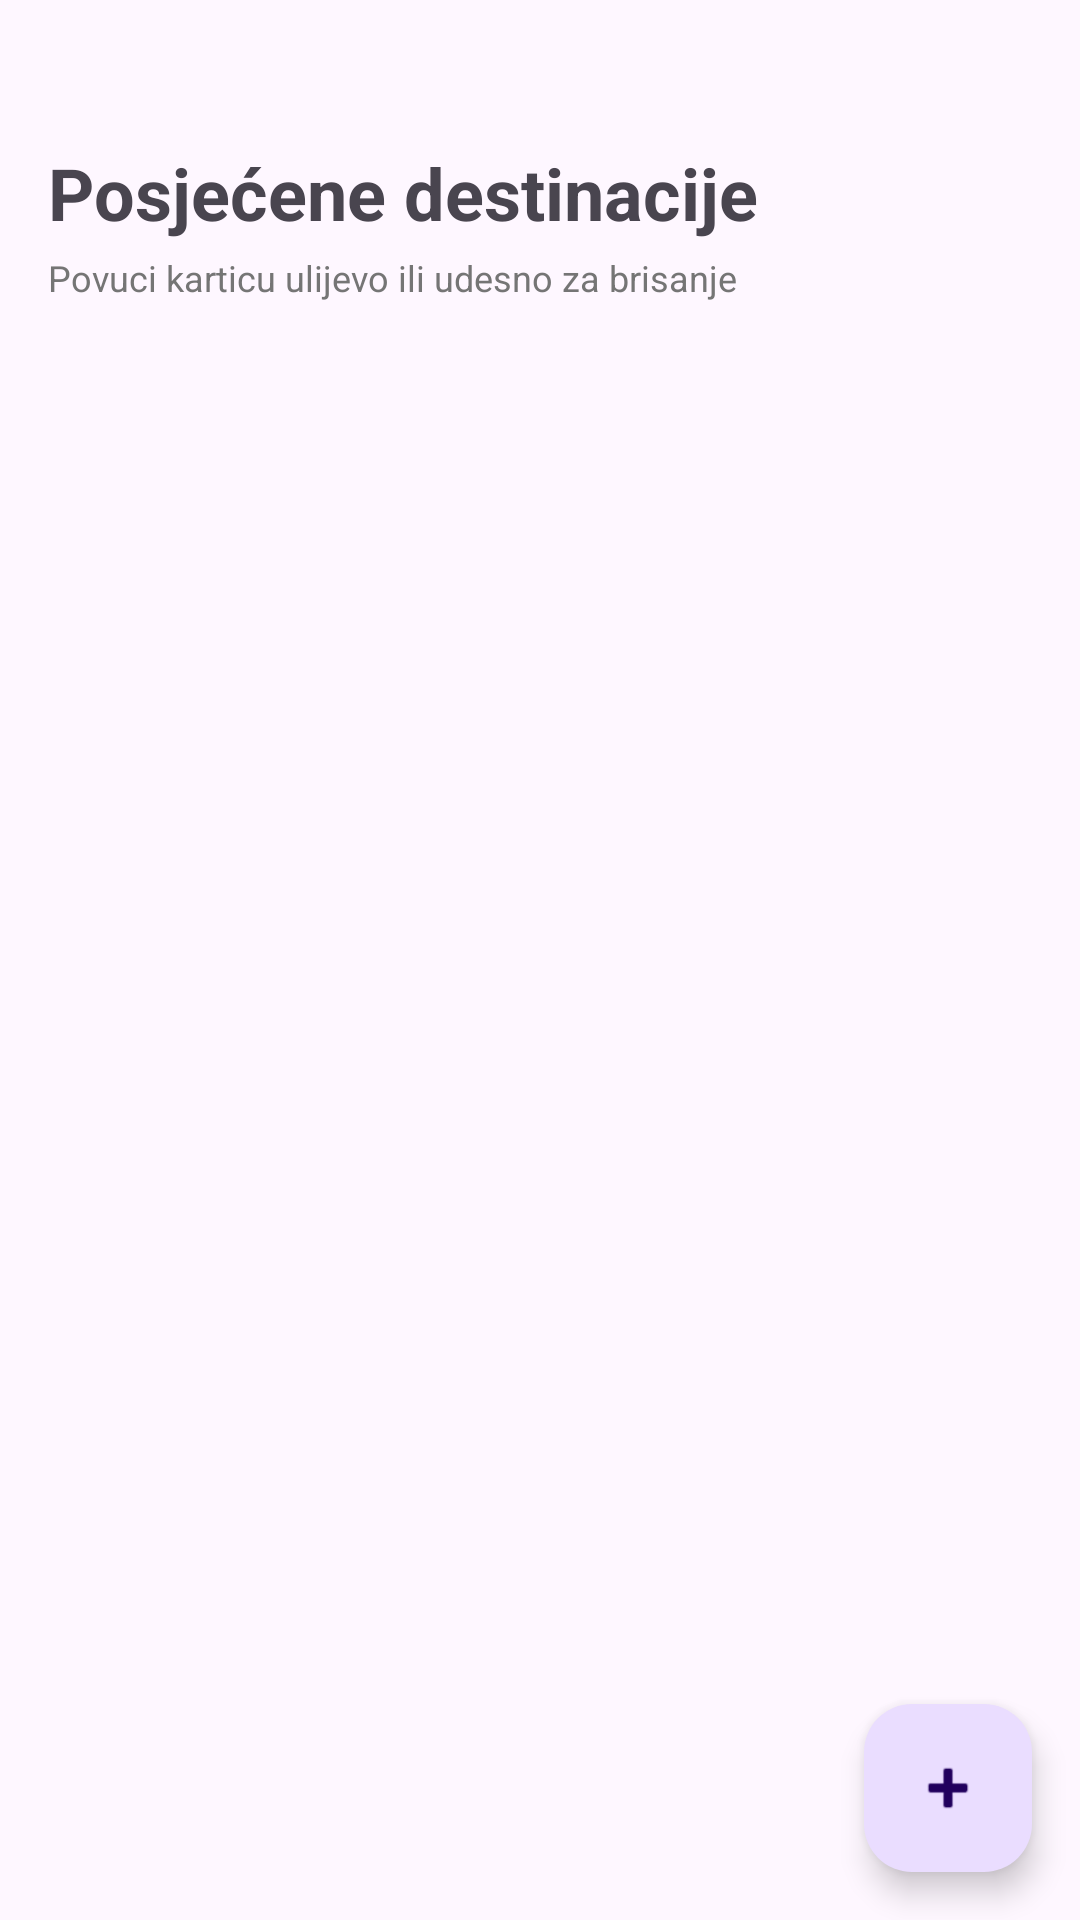

Named icons in this screenshot (1080w x 1920h) and their centers, (x,y):
Dodaj posjećenu destinaciju: (948,1788)
